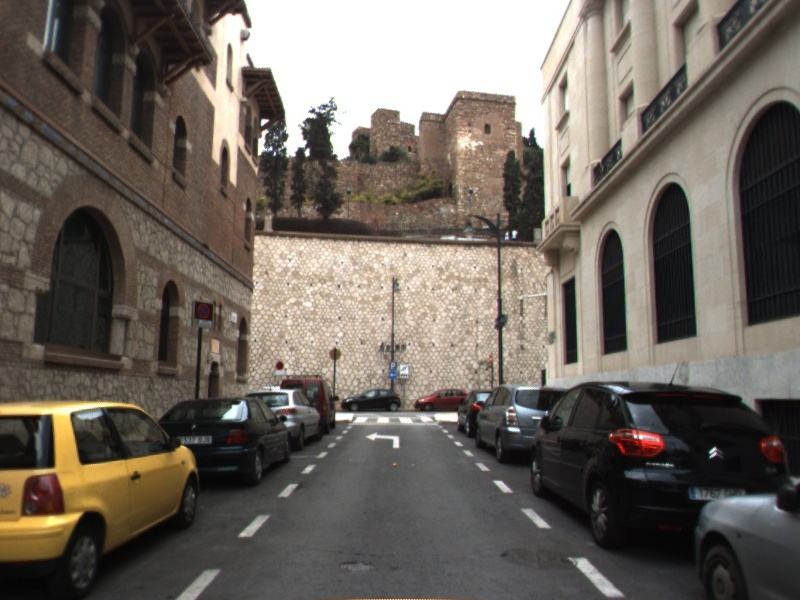LEFT: (363, 430, 402, 450)
